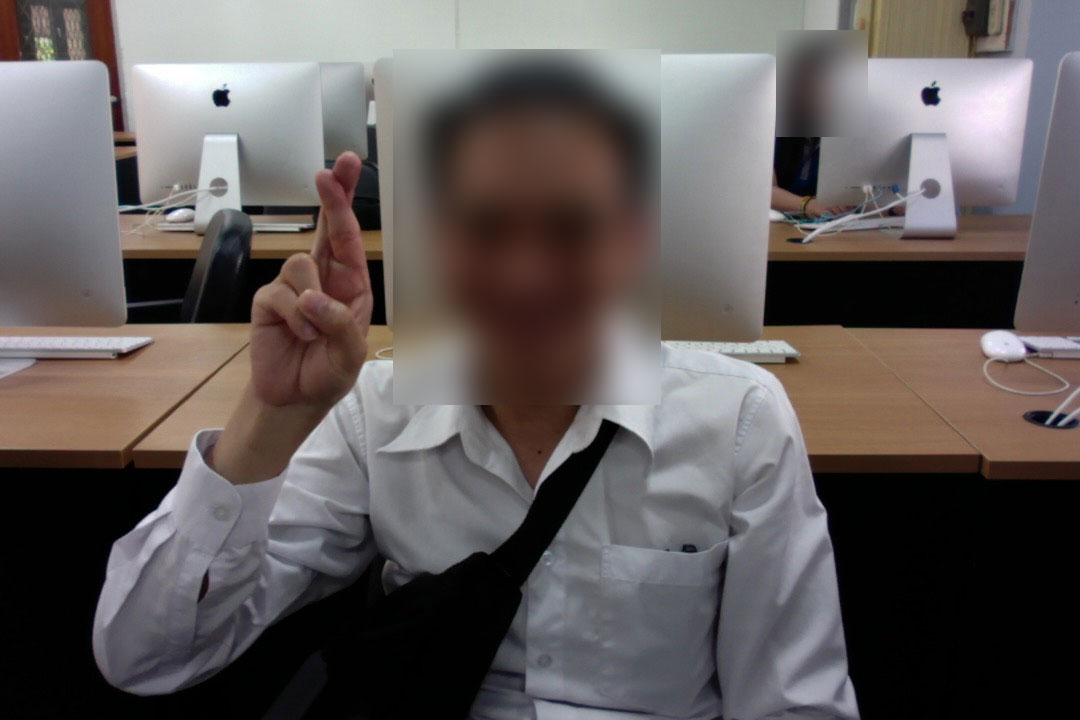rao: (237, 148, 384, 414)
